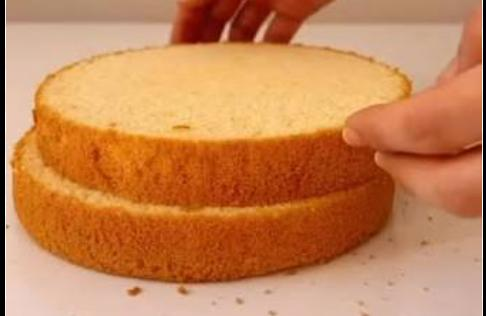Sponge Cake: (13, 48, 414, 282)
